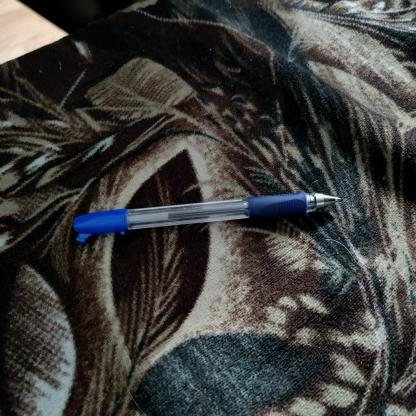Pen: (66, 179, 349, 231)
